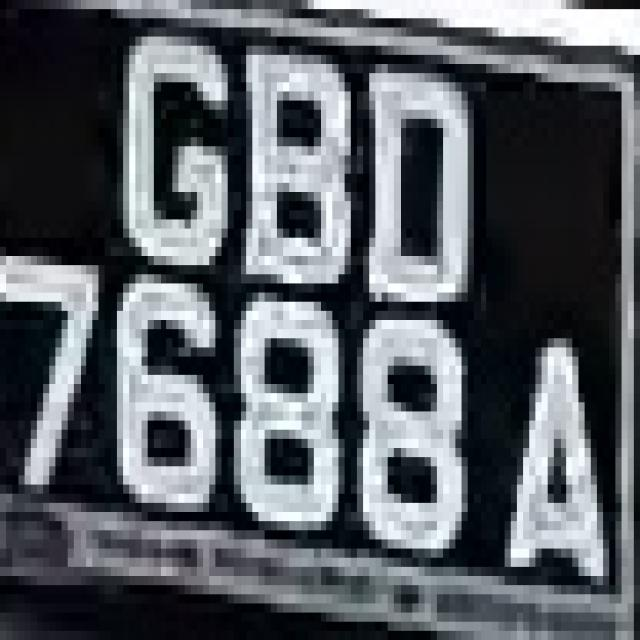6: (86, 229, 222, 521)
7: (0, 210, 98, 530)
8: (320, 292, 462, 567), (228, 283, 363, 567)
A: (474, 293, 609, 622)
B: (228, 36, 357, 302)
D: (363, 73, 492, 320)
G: (92, 18, 228, 284)
